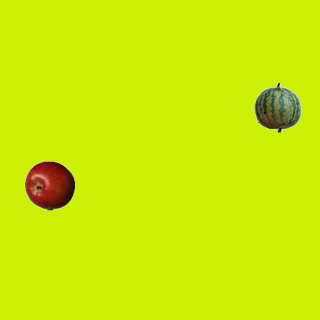Apple Braeburn: (24, 160, 74, 210)
Watermelon: (252, 82, 302, 132)
